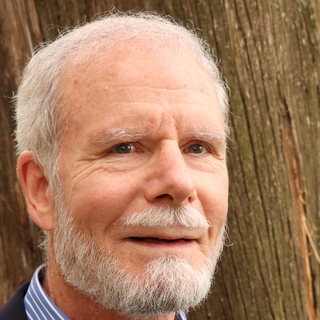eye: (176, 136, 223, 161), (99, 136, 147, 160)
